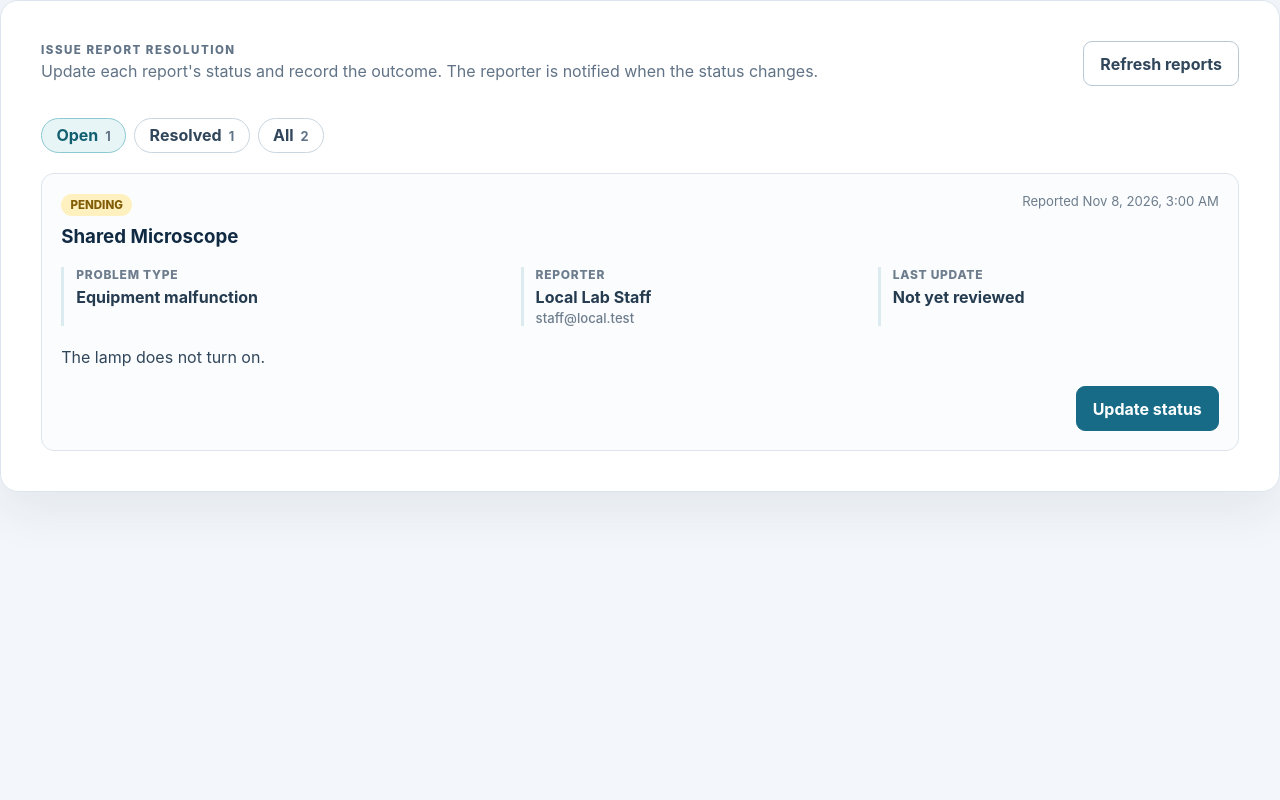
Scenario: IssueReportReview › keeps the form open and shows the error when saving fails
Click the button with aria-label "update shared microscope report" at [1147, 409], box left=1076, top=386, right=1219, bottom=431
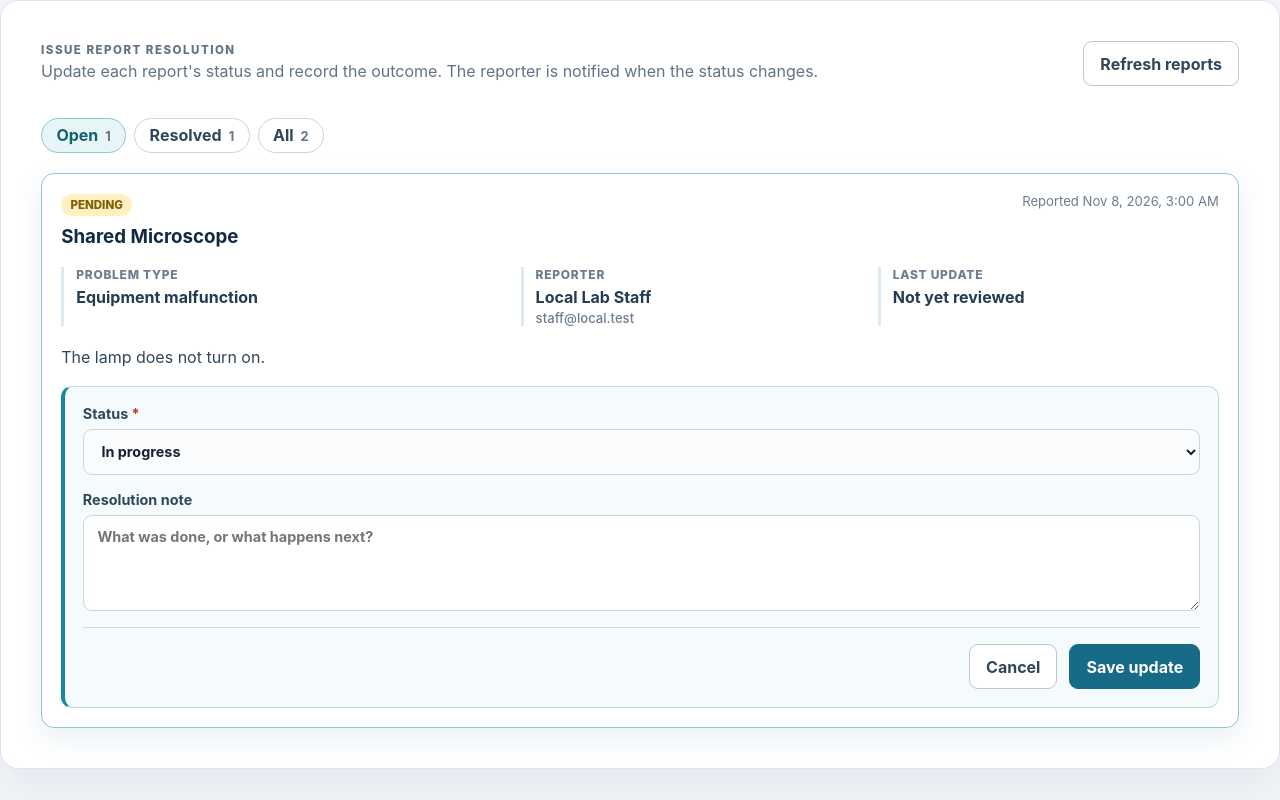
Click the button "Save update" at [1135, 666], box left=1069, top=644, right=1200, bottom=689
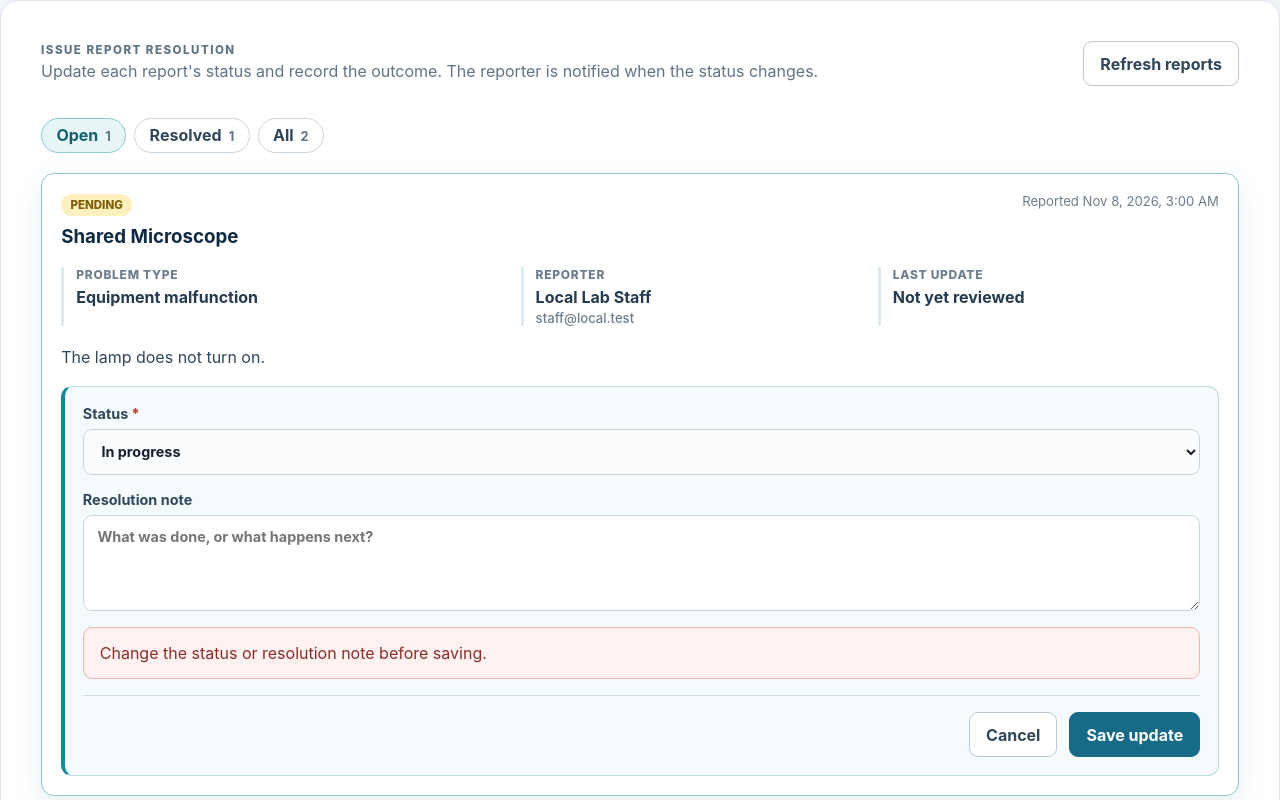
Check: the form named "update shared microscope report" is shown, box left=61, top=386, right=1219, bottom=776
Check: the message shows "Change the status or resolution note", box left=100, top=643, right=487, bottom=663
